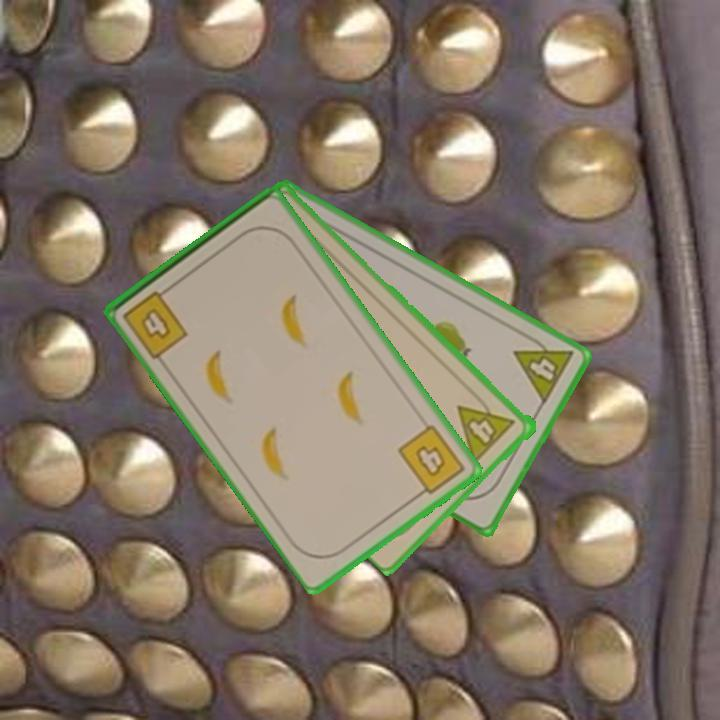4b: (394, 421, 469, 502), (119, 282, 192, 362)
4p: (510, 329, 577, 407), (454, 388, 519, 466)
